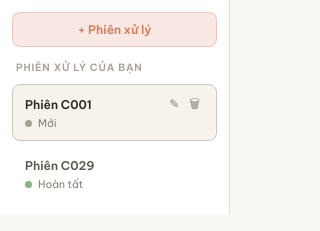
Test: ConversationSidebar CRUD (T15-3) › click ✎ → input rename (KHÔNG mở ca — stopPropagation)
Click the button with test id "conv-edit-c1" at (174, 104), box [165, 95, 183, 113]
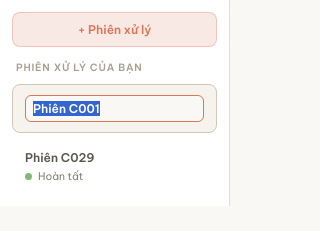
Result: the field with test id "conv-rename-c1" is shown at [25, 95, 204, 122]
